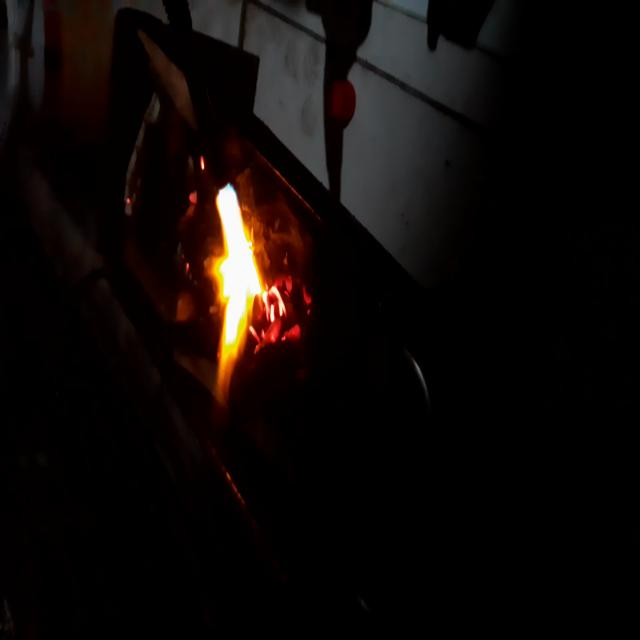Fire: (195, 165, 288, 393)
